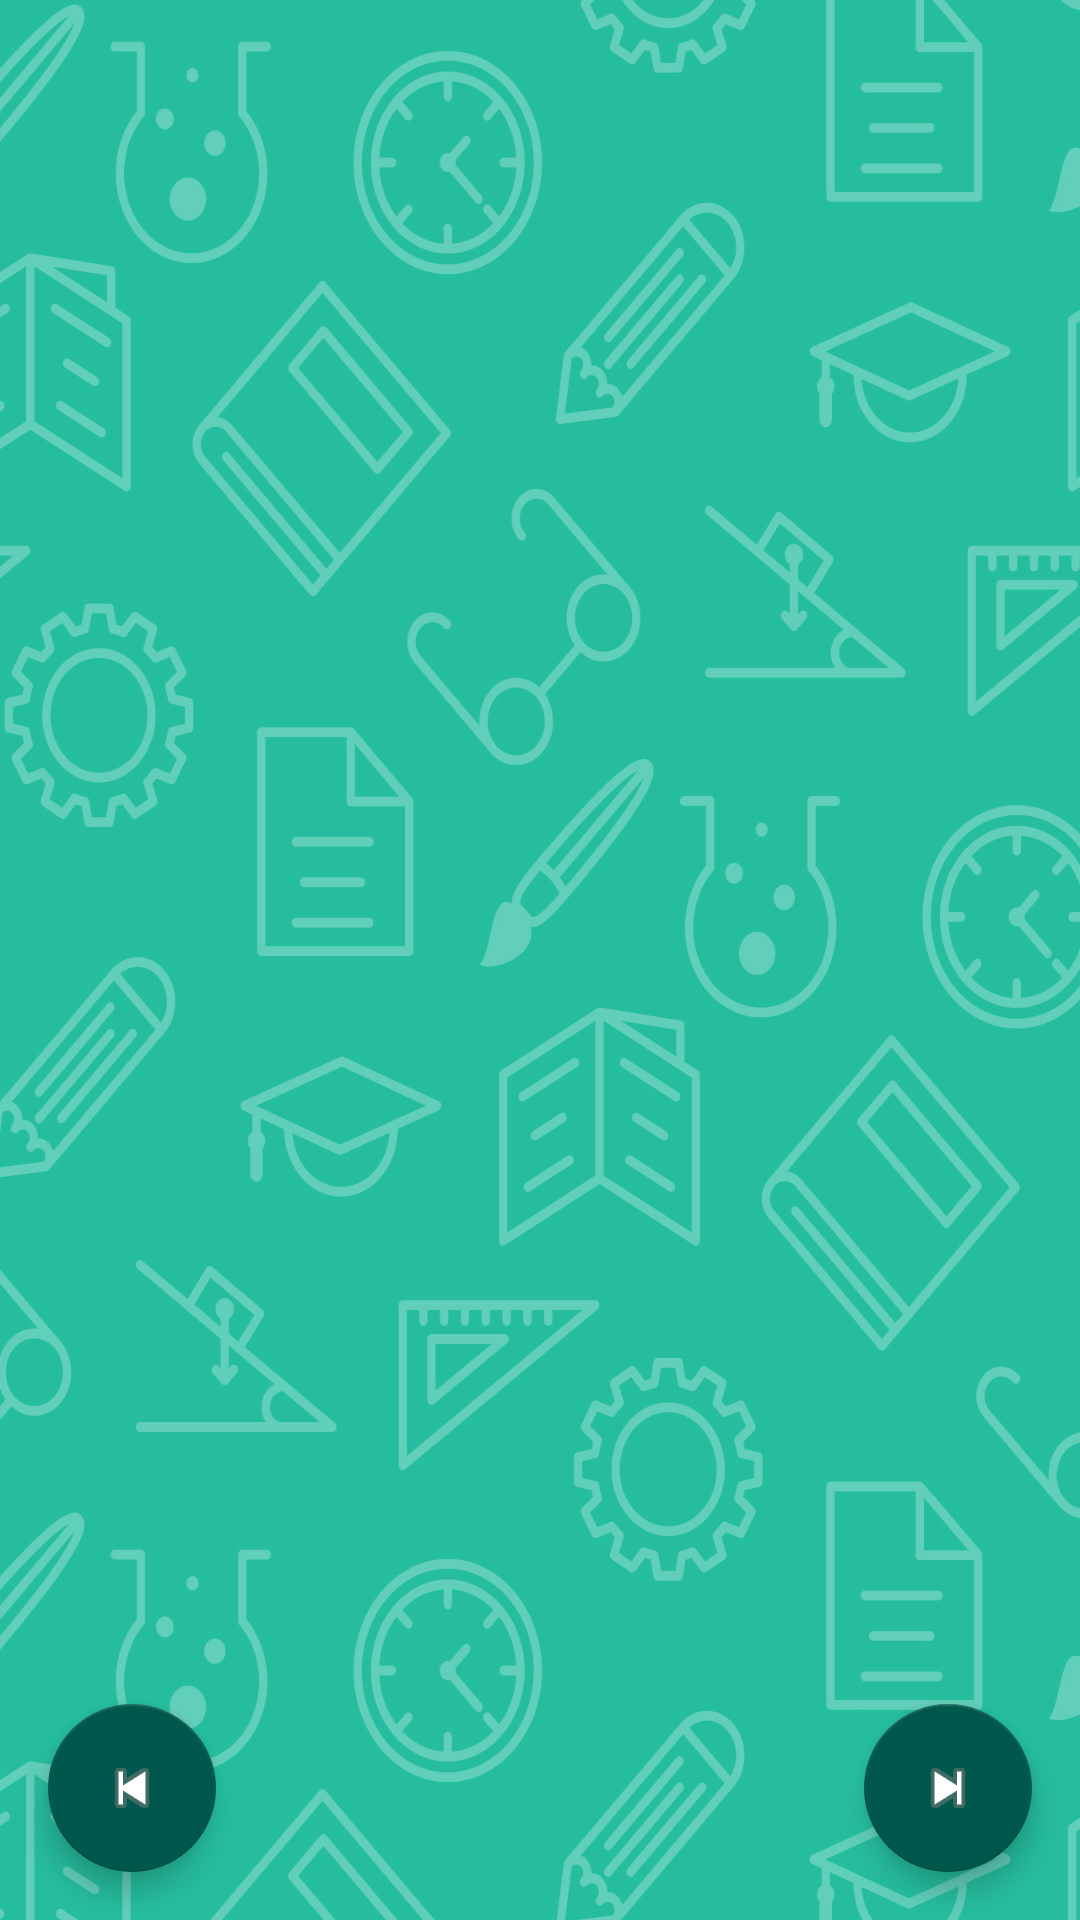

Where to tap for icons on this 1080*1920 app screen, as [x,y]:
next: [948,1788]
previous: [132,1788]
